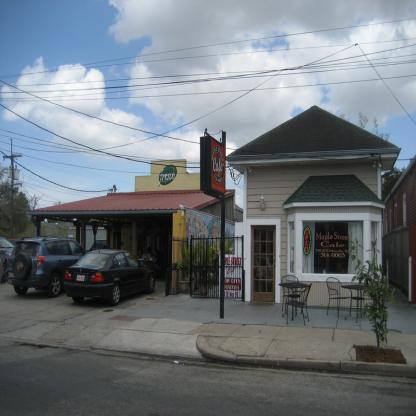car: (56, 248, 150, 308), (3, 233, 88, 298)
